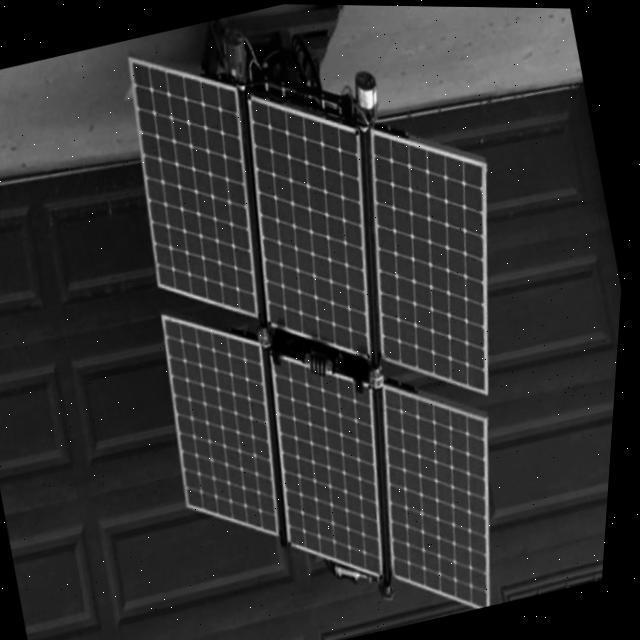Normal Solar Panel: (334, 104, 546, 412), (215, 70, 417, 372), (105, 33, 296, 335), (354, 362, 541, 625), (146, 292, 316, 554), (251, 340, 423, 592)
